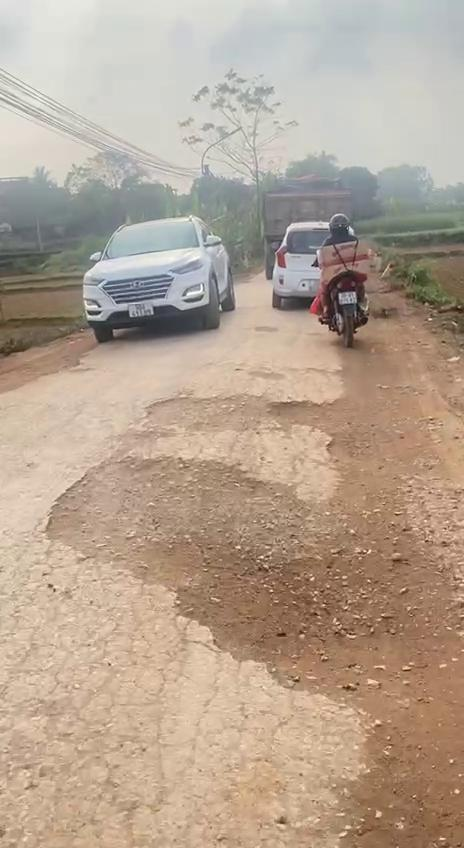pothole: (42, 443, 398, 724), (139, 393, 361, 458)
